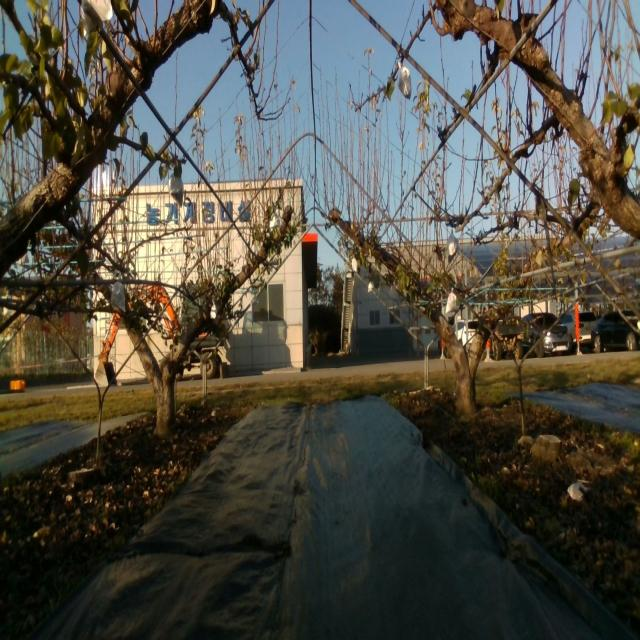pearbags: (397, 60, 412, 100), (168, 171, 184, 207), (110, 281, 126, 311), (445, 286, 460, 314), (446, 230, 458, 264)
